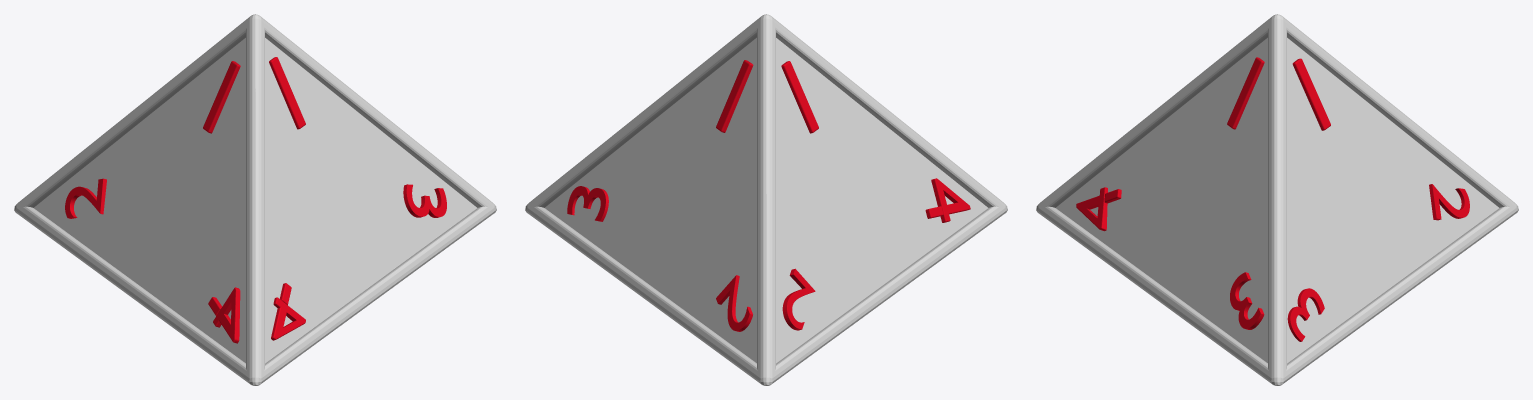
The model's file is Tétrahèdre.fbx.
3 views of the same model, side by side, from view 1: azimuth 30°, elevation 25°; view 2: azimuth 150°, elevation 25°; view 3: azimuth 270°, elevation 25° (orthographic).
Parts seen in each view (by area): view 1: Tétrahèdre; view 2: Tétrahèdre; view 3: Tétrahèdre.
Boxes of the visible parts, x1,y1,x2,y2 form: Tétrahèdre: [14, 14, 496, 385]; Tétrahèdre: [525, 14, 1007, 385]; Tétrahèdre: [1036, 14, 1518, 385].
Bounding box in the file's own units: 164 × 110 × 188.
